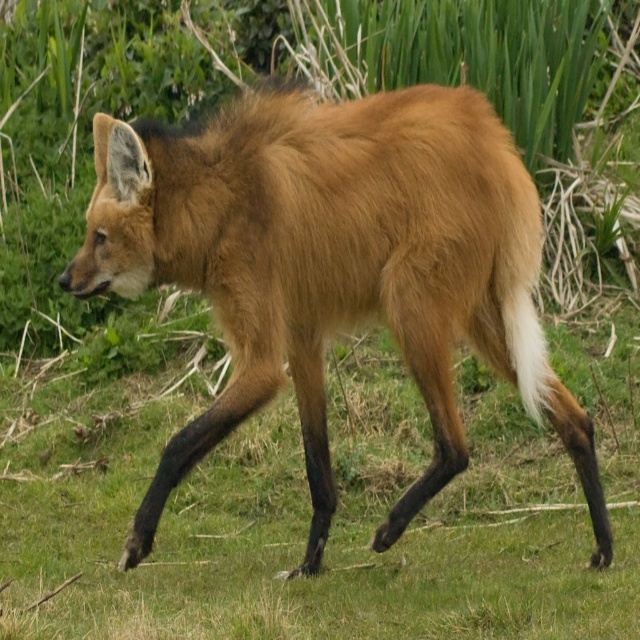Fox: (53, 67, 617, 583)
